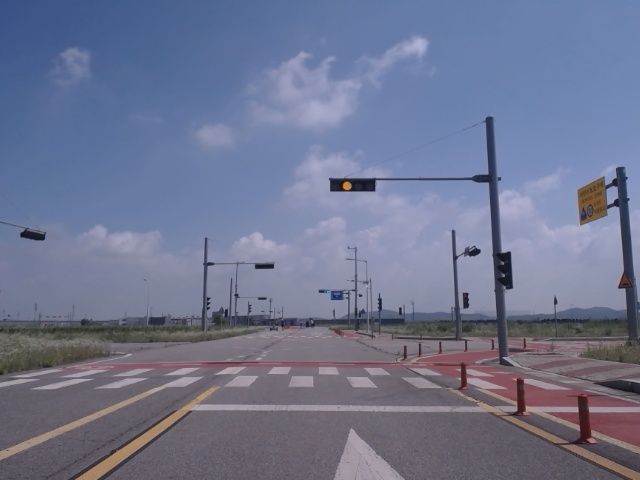orange_4: (332, 177, 375, 191)
